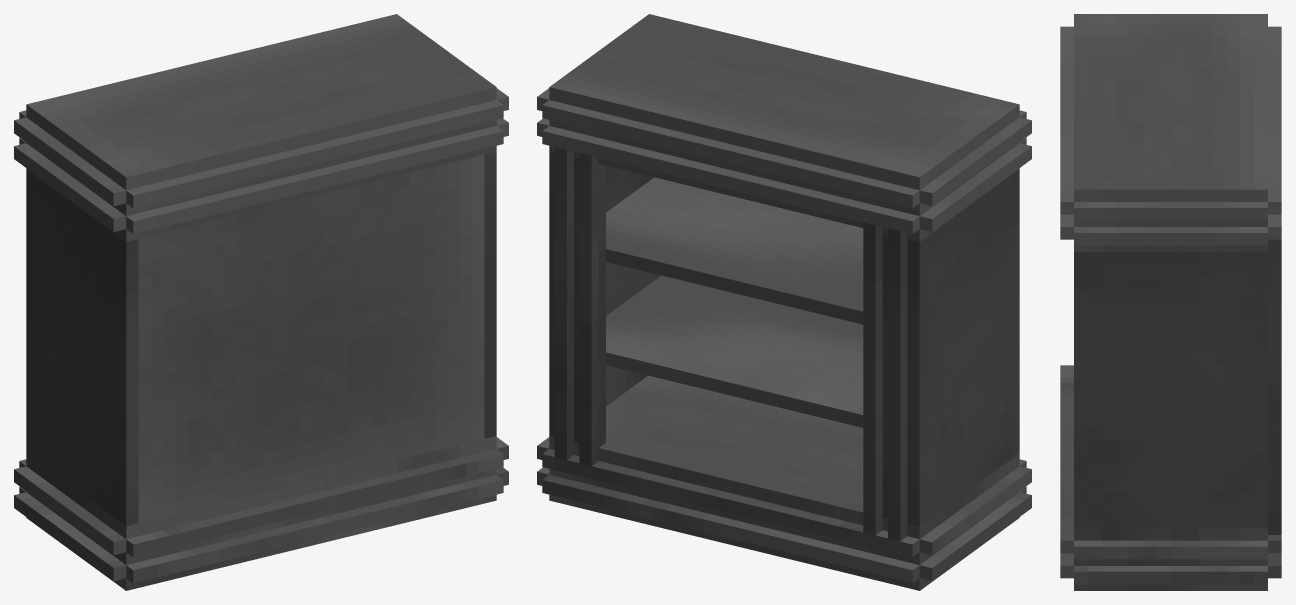
The model's file is bookshelf.gltf.
3 views of the same model, side by side, from view 1: azimuth 30°, elevation 25°; view 2: azimuth 150°, elevation 25°; view 3: azimuth 270°, elevation 25° (orthographic). The views are drawn at different scales.
Visible parts, largest first — view 1: back, bottom (×2), left (×2), ridge_3 (×2), ridge_4 (×2), ridge_2, ridge_5 (×2), ridge_6; view 2: bottom (×2), shelf (×2), left (×2), ridge_2 (×4), ridge_3 (×2), ridge_1 (×2), front (×2), ridge_5 (×2), ridge_6, ridge_4; view 3: left, bottom (×2), ridge_4 (×3), ridge_3 (×4), ridge_1 (×2), ridge_5, ridge_2 (×2).
Part boxes in pixels (left/top/right/bottom): back: left=138, top=155, right=484, bottom=522; bottom (×2): left=26, top=14, right=496, bottom=590; left (×2): left=26, top=151, right=496, bottom=526; ridge_3 (×2): left=126, top=126, right=503, bottom=557; ridge_4 (×2): left=14, top=100, right=503, bottom=554; ridge_2: left=126, top=475, right=503, bottom=583; ridge_5 (×2): left=14, top=117, right=126, bottom=580; ridge_6: left=14, top=143, right=126, bottom=231; bottom (×2): left=549, top=14, right=1019, bottom=590; shelf (×2): left=606, top=177, right=863, bottom=427; left (×2): left=549, top=151, right=1019, bottom=526; ridge_2 (×4): left=542, top=126, right=919, bottom=557; ridge_3 (×2): left=542, top=100, right=919, bottom=535; ridge_1 (×2): left=542, top=147, right=919, bottom=583; front (×2): left=574, top=157, right=887, bottom=518; ridge_5 (×2): left=919, top=117, right=1031, bottom=580; ridge_6: left=919, top=143, right=1031, bottom=231; ridge_4: left=919, top=466, right=1031, bottom=554; left: left=1074, top=252, right=1267, bottom=528; bottom (×2): left=1074, top=14, right=1267, bottom=590; ridge_4 (×3): left=1060, top=26, right=1267, bottom=584; ridge_3 (×4): left=1060, top=26, right=1281, bottom=559; ridge_1 (×2): left=1268, top=239, right=1281, bottom=578; ridge_5: left=1074, top=227, right=1267, bottom=245; ridge_2 (×2): left=1060, top=214, right=1281, bottom=578.
Bounding box in the file's own units: 2 × 2 × 1.
4 materials, 4 textured.
